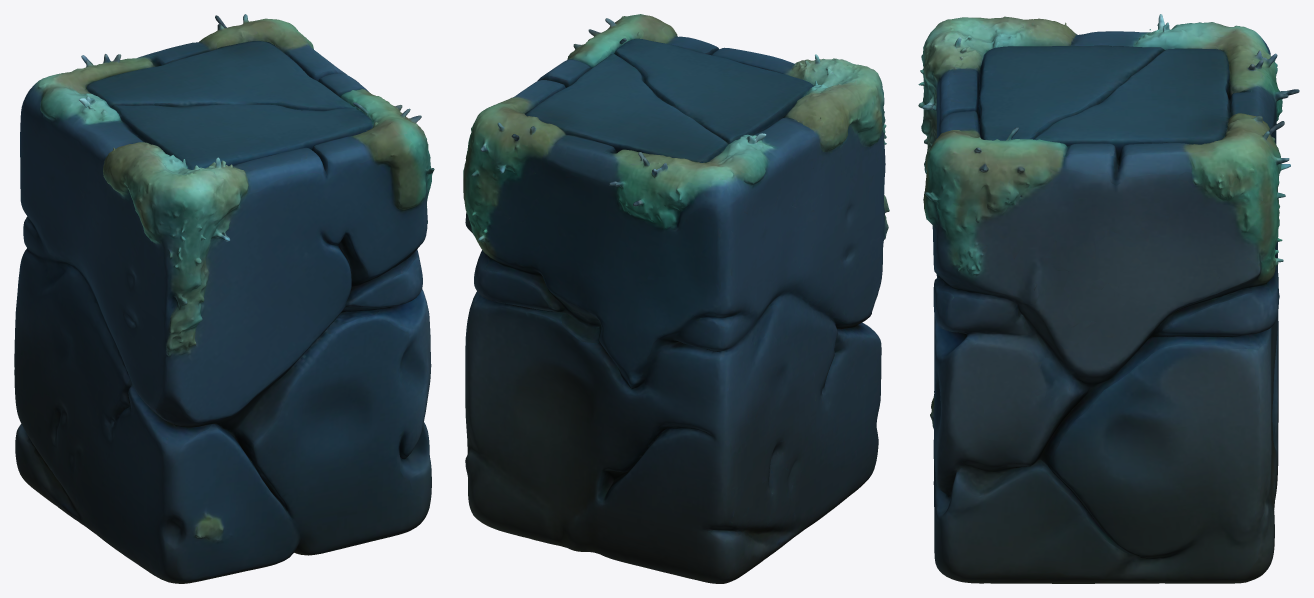
3 renders of one model, left to right at view 1: azimuth 30°, elevation 25°; view 2: azimuth 150°, elevation 25°; view 3: azimuth 270°, elevation 25°, orthographic. The views are drawn at different scales.
Visible parts, largest first — view 1: world; view 2: world; view 3: world.
Part boxes in pixels (left/top/right/bottom): world: left=14, top=14, right=434, bottom=583; world: left=463, top=14, right=889, bottom=583; world: left=918, top=14, right=1299, bottom=583.
Bounding box in the file's own units: 0.7138 × 0.9992 × 0.7675.
Materials: 1 (1 with a texture image).
